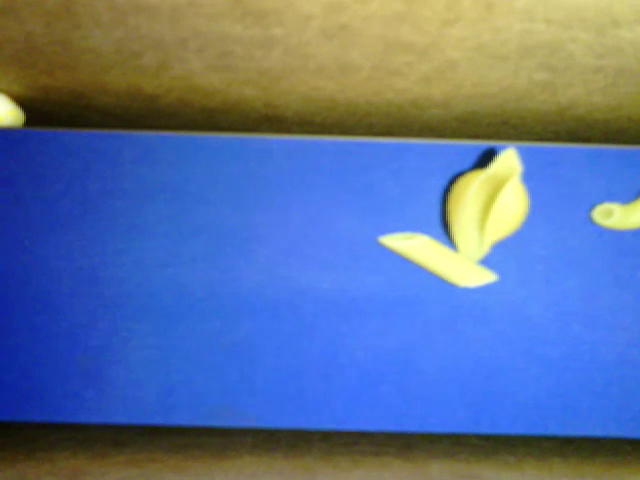elbow: (589, 196, 639, 232)
penne: (378, 231, 499, 291)
shell: (446, 145, 529, 264)
